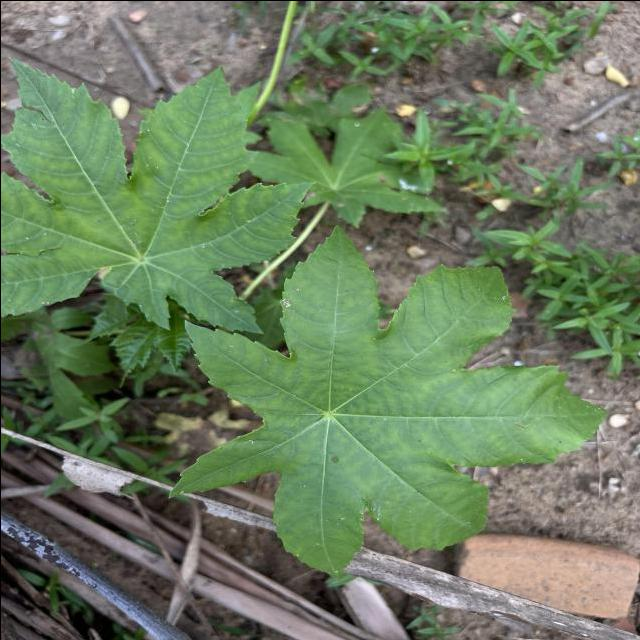Ricinus communis linn: (160, 220, 612, 583), (0, 48, 320, 335)
